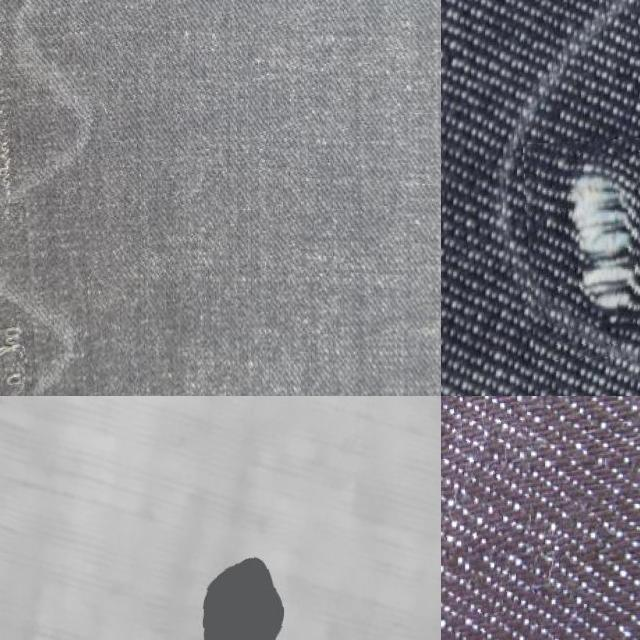Hole: (141, 533, 313, 640)
Thread_other: (526, 137, 640, 358), (441, 396, 533, 640)
